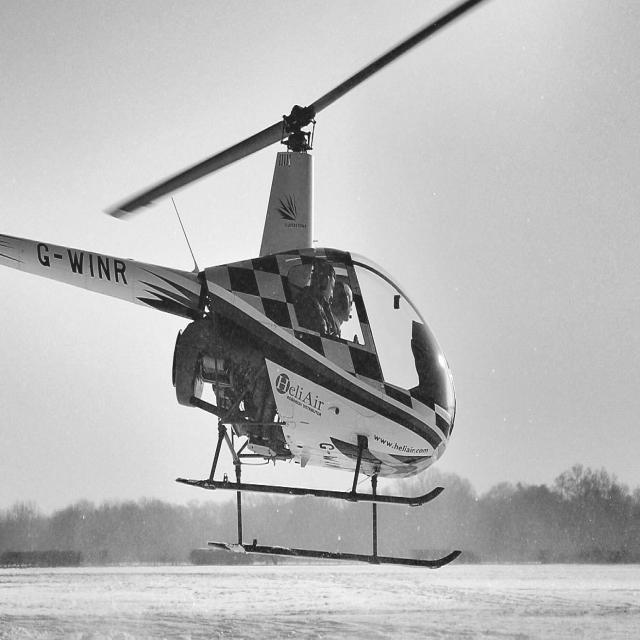helicopter: (1, 1, 503, 587)
